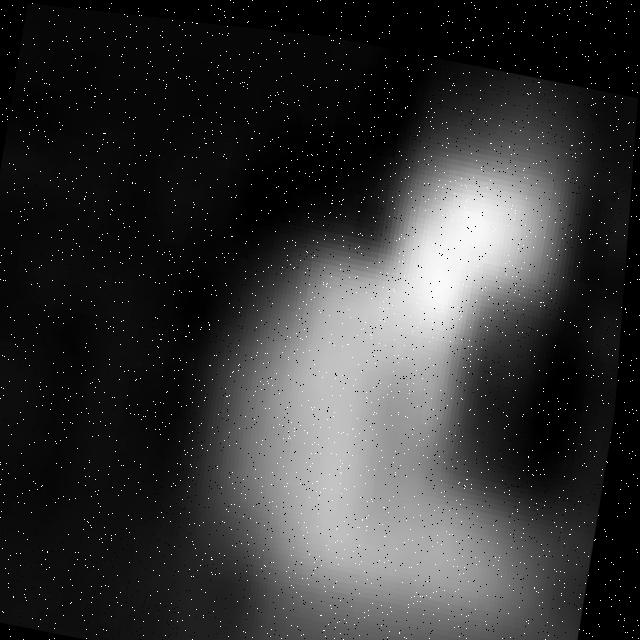person: (162, 18, 630, 640)
